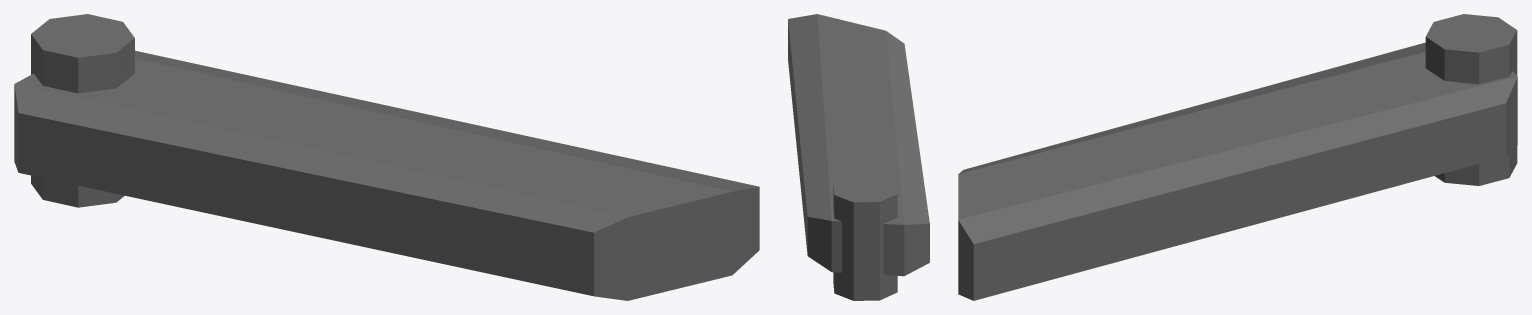
The model's file is LugerMag.glb.
3 views of the same model, side by side, from view 1: azimuth 30°, elevation 25°; view 2: azimuth 150°, elevation 25°; view 3: azimuth 270°, elevation 25° (orthographic). The views are drawn at different scales.
Parts seen in each view (by area): view 1: LugerMag; view 2: LugerMag; view 3: LugerMag.
Boxes of the visible parts, x1,y1,x2,y2 form: LugerMag: [14, 14, 759, 300]; LugerMag: [788, 14, 929, 300]; LugerMag: [958, 14, 1517, 300].
Size of the model in its own units: 3.93 by 1.18 by 4.47.
1 material, 1 textured.
